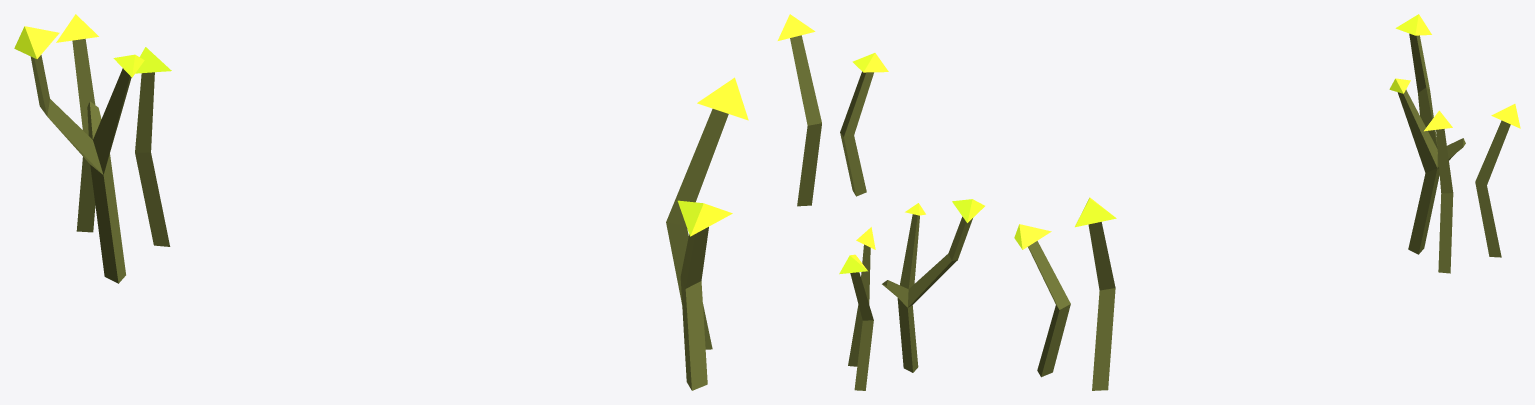
Rendered from Pests-Weed1.fbx.
3 views of the same model, side by side, from view 1: azimuth 30°, elevation 25°; view 2: azimuth 150°, elevation 25°; view 3: azimuth 270°, elevation 25° (orthographic). The views are drawn at different scales.
Visible parts, largest first — view 1: weed1; view 2: weed1; view 3: weed1.
Boxes of the visible parts, x1,y1,x2,y2 form: weed1: (14,14,748,390); weed1: (777,14,984,390); weed1: (1014,14,1520,390).
Size of the model in its own units: 0.5943 by 0.7045 by 0.3178.
